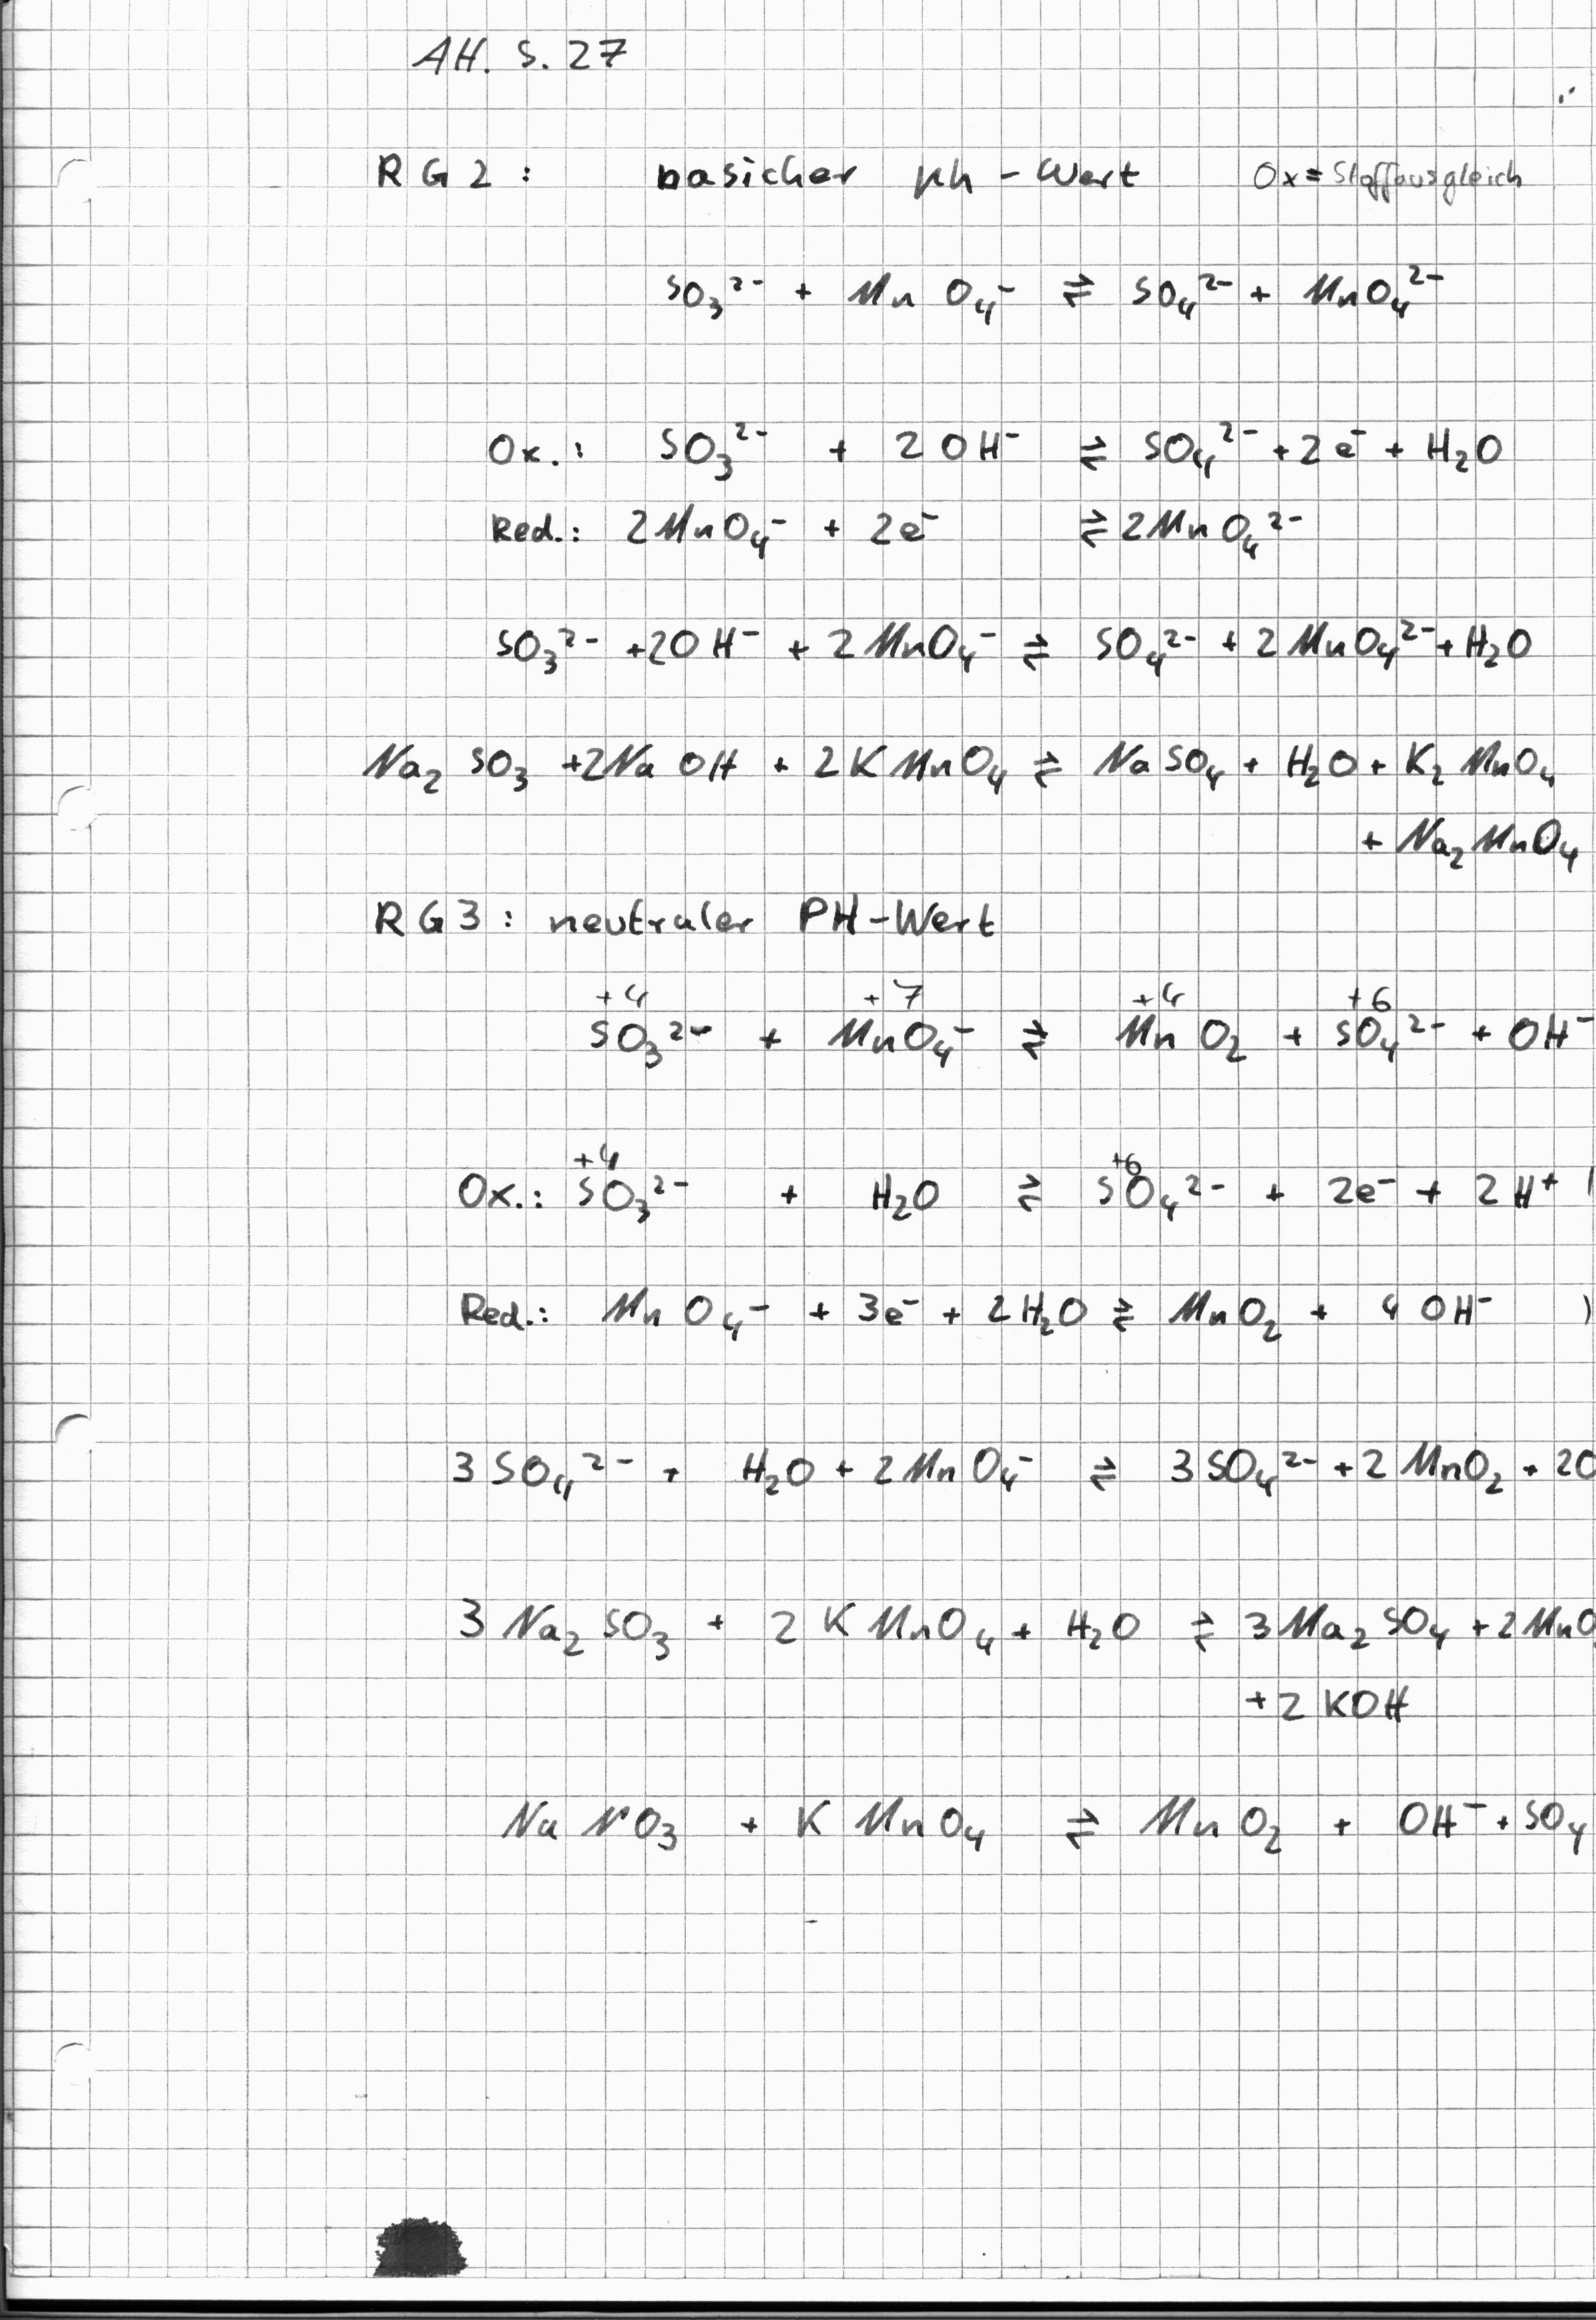word: (583, 964, 1594, 1092), (447, 1560, 1596, 1669), (441, 1127, 1573, 1232), (440, 1413, 1592, 1510), (494, 1768, 1588, 1869), (483, 597, 1553, 699), (343, 711, 1567, 798), (448, 1254, 1505, 1348), (473, 407, 1022, 563), (651, 247, 1468, 343), (1068, 403, 1512, 562), (360, 870, 1016, 957), (641, 134, 1156, 218), (394, 9, 645, 98), (1350, 802, 1582, 886), (369, 122, 554, 215)
